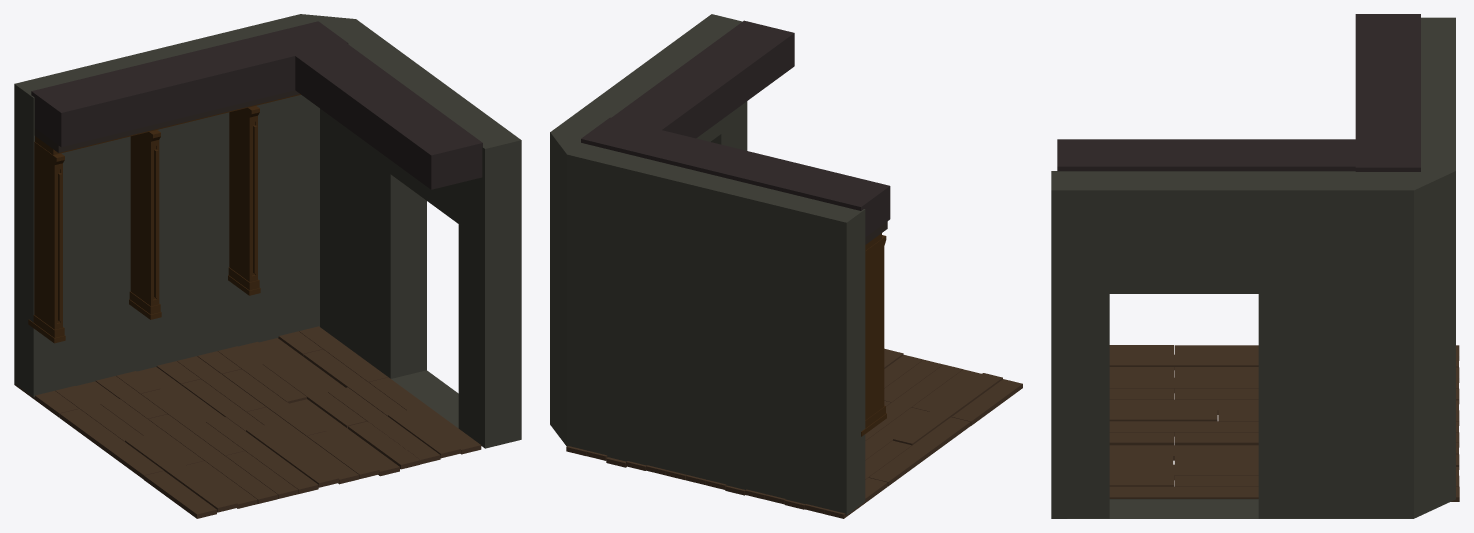
The model's file is HabitacionEntrada.fbx.
3 views of the same model, side by side, from view 1: azimuth 30°, elevation 25°; view 2: azimuth 150°, elevation 25°; view 3: azimuth 270°, elevation 25° (orthographic). The views are drawn at different scales.
Visible parts, largest first — view 1: Muros.001, Suelo.003, Estructura2.001, Viga1.001, Viga2.002; view 2: Muros.001, Suelo.003, Viga2.002, Viga1.001, Estructura2.001; view 3: Muros.001, Suelo.003, Viga2.002, Viga1.001.
Boxes of the visible parts, x1,y1,x2,y2 form: Muros.001: [14, 14, 521, 448]; Suelo.003: [14, 326, 481, 518]; Estructura2.001: [28, 90, 300, 343]; Viga1.001: [31, 21, 348, 147]; Viga2.002: [266, 22, 482, 189]; Muros.001: [550, 14, 865, 515]; Suelo.003: [566, 348, 1022, 518]; Viga2.002: [583, 20, 794, 151]; Viga1.001: [581, 117, 890, 237]; Estructura2.001: [861, 221, 887, 436]; Muros.001: [1051, 17, 1455, 518]; Suelo.003: [1109, 345, 1459, 501]; Viga2.002: [1057, 139, 1420, 171]; Viga1.001: [1355, 14, 1420, 171].
Size of the model in its own units: 366 by 334 by 365.
